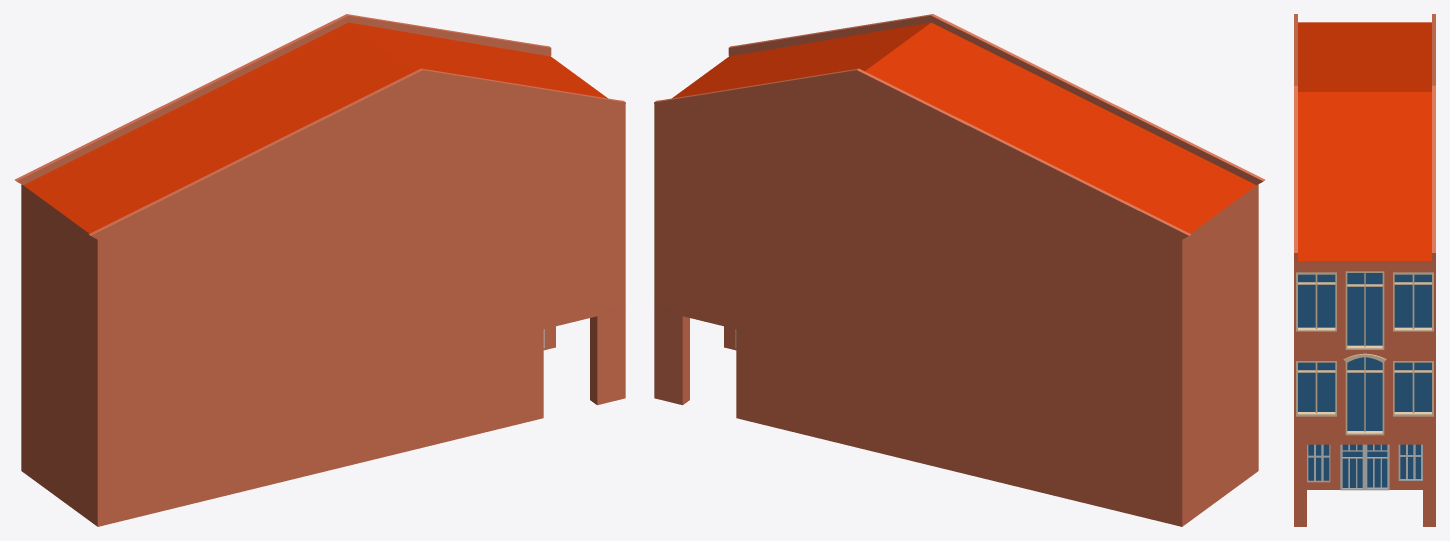
The model's file is house7.fbx.
3 views of the same model, side by side, from view 1: azimuth 30°, elevation 25°; view 2: azimuth 150°, elevation 25°; view 3: azimuth 270°, elevation 25° (orthographic). The views are drawn at different scales.
Visible parts, largest first — view 1: house7; view 2: house7; view 3: house7.
Boxes of the visible parts, left/top/right/bottom form: house7: left=14, top=14, right=625, bottom=526; house7: left=654, top=14, right=1265, bottom=526; house7: left=1294, top=14, right=1435, bottom=526.
Bounding box in the file's own units: 1208 × 813 × 299.
